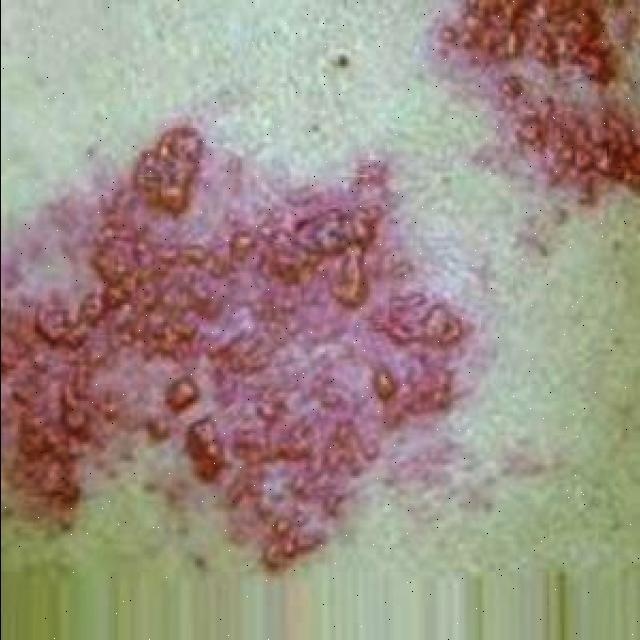Shingles: (0, 122, 471, 574), (438, 0, 640, 203)
